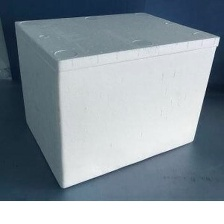foam_box: (10, 7, 223, 192)
